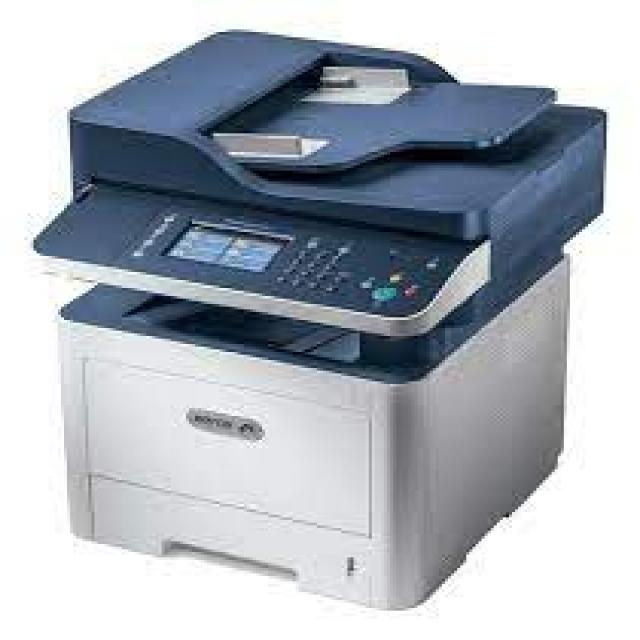printer: (26, 11, 618, 624)
